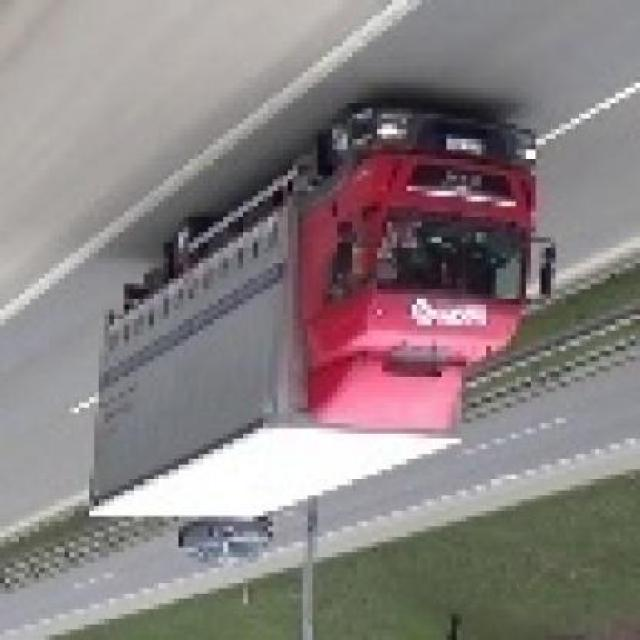truck: (91, 100, 557, 523)
